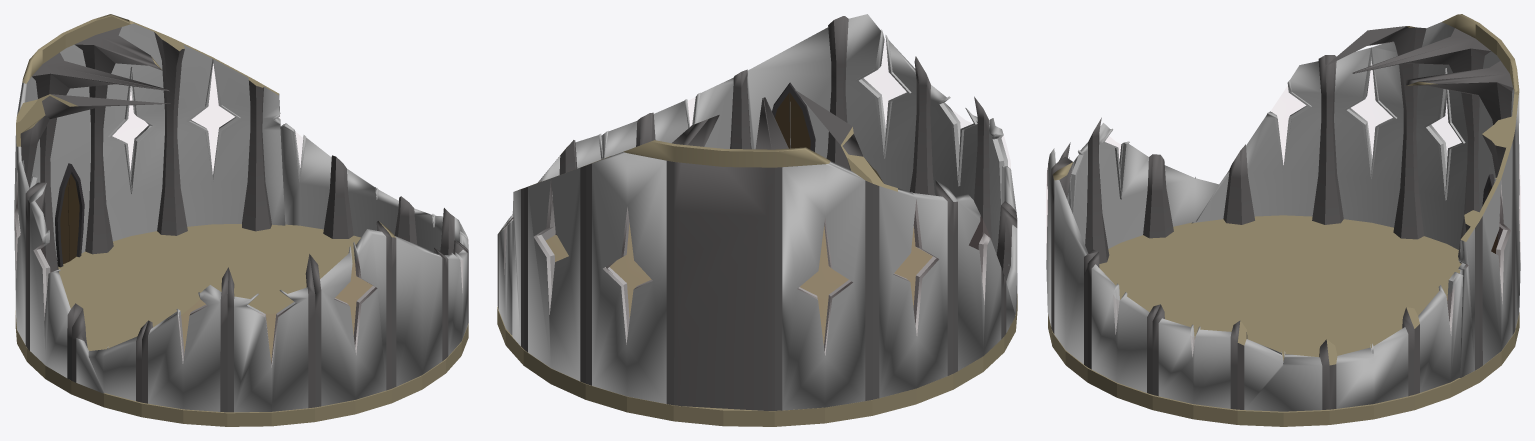
File: Tower_Small.fbx
3 views of the same model, side by side, from view 1: azimuth 30°, elevation 25°; view 2: azimuth 150°, elevation 25°; view 3: azimuth 270°, elevation 25° (orthographic). The views are drawn at different scales.
Visible parts, largest first — view 1: walls.007, floor.004, door.017; view 2: walls.007, floor.004, door.016; view 3: walls.007, floor.004.
Part boxes in pixels (left/top/right/bottom): walls.007: left=14, top=14, right=468, bottom=412; floor.004: left=15, top=224, right=468, bottom=426; door.017: left=55, top=163, right=84, bottom=267; walls.007: left=497, top=14, right=1017, bottom=410; floor.004: left=497, top=223, right=1017, bottom=426; door.016: left=772, top=82, right=815, bottom=151; walls.007: left=1046, top=14, right=1520, bottom=411; floor.004: left=1048, top=215, right=1519, bottom=426.
Bounding box in the file's own units: 9049 × 5239 × 9046.
